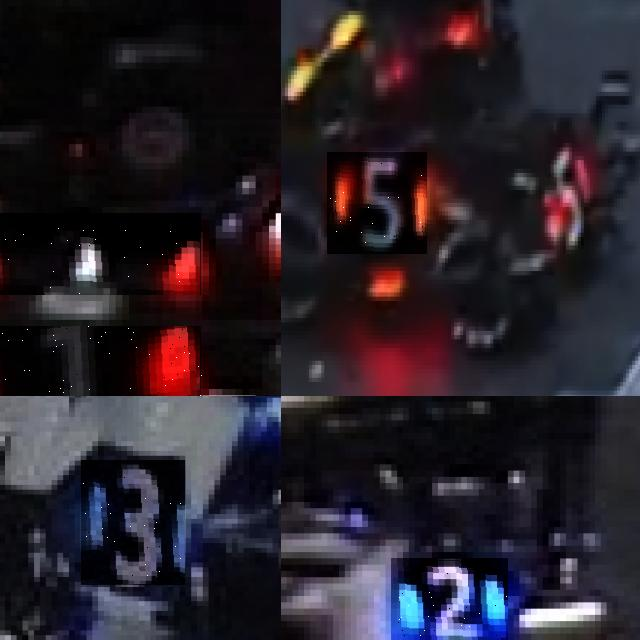B2: (391, 558, 508, 640)
B3: (81, 461, 185, 586)
R1: (0, 213, 202, 294), (0, 326, 202, 396)
R5: (327, 152, 427, 254)
